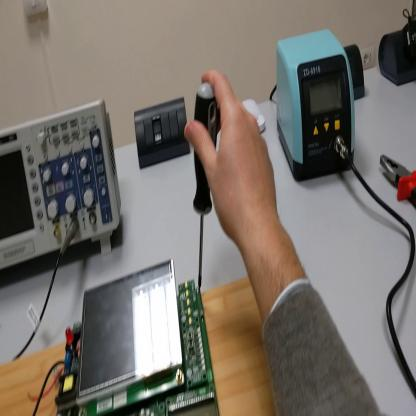hand: (186, 68, 281, 241)
low voltage board: (27, 264, 219, 416)
oscilloscope: (2, 99, 122, 258)
pliers: (381, 154, 415, 206)
screwdriver-: (192, 87, 216, 293)
socket: (379, 30, 416, 87), (344, 43, 364, 100)
welder station: (276, 31, 358, 182)
working area: (1, 279, 276, 416)
